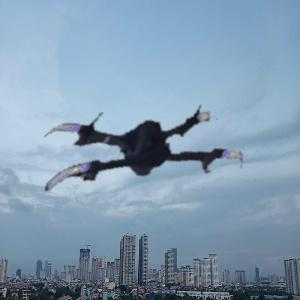drone: (43, 71, 240, 268)
